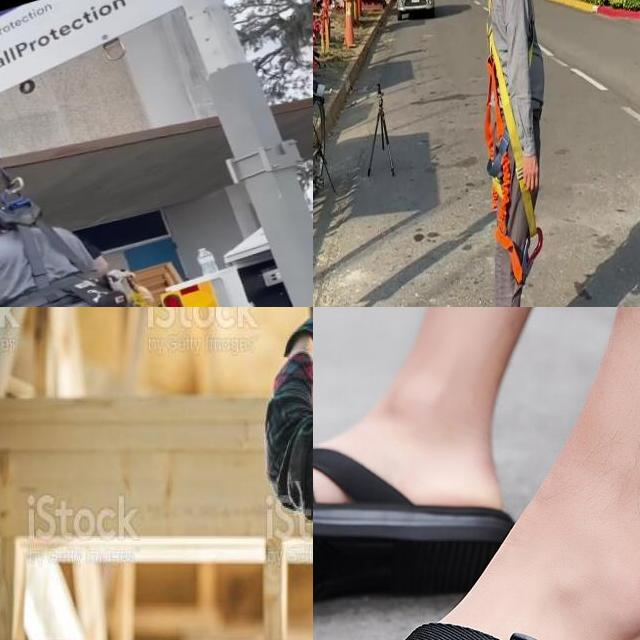Harness: (485, 29, 538, 284), (0, 204, 111, 307)
